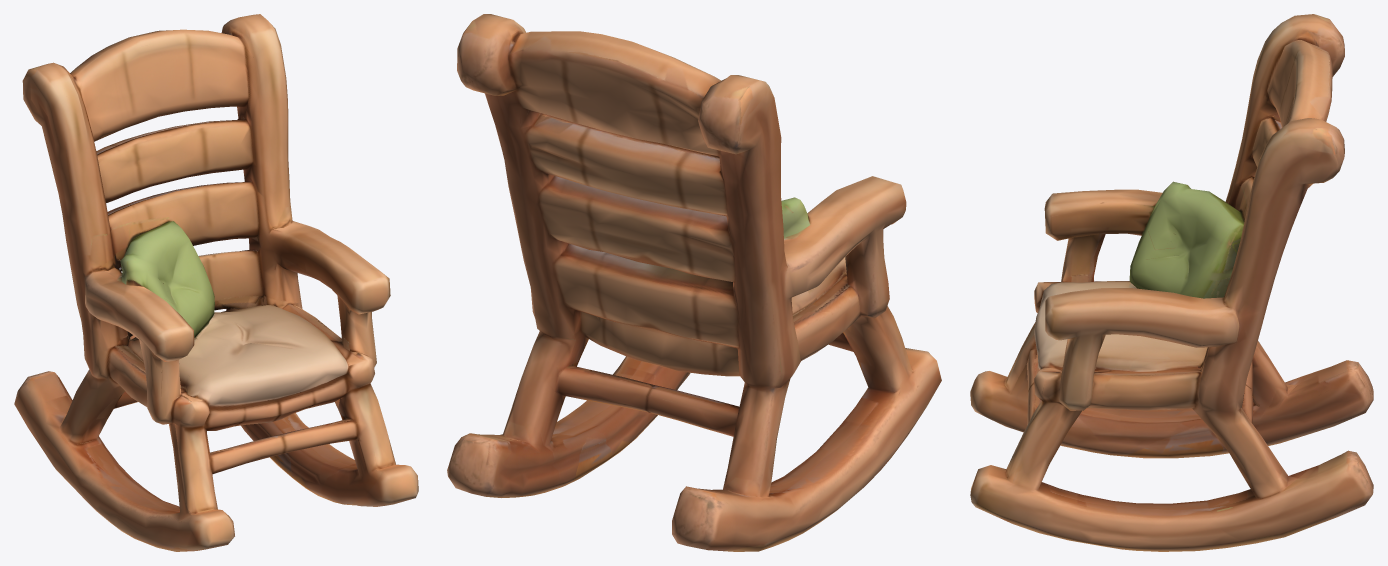
File: Chair_Comfort.glb
3 renders of one model, left to right at view 1: azimuth 30°, elevation 25°; view 2: azimuth 150°, elevation 25°; view 3: azimuth 270°, elevation 25°, orthographic. The views are drawn at different scales.
Bounding box in the file's own units: 1.13 × 1.91 × 1.6.
Materials: 1 (1 with a texture image).
